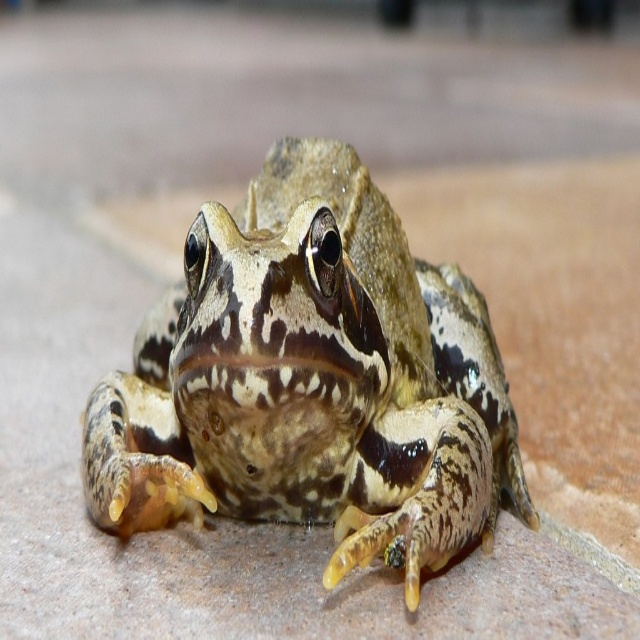Frog: (80, 135, 541, 611)
